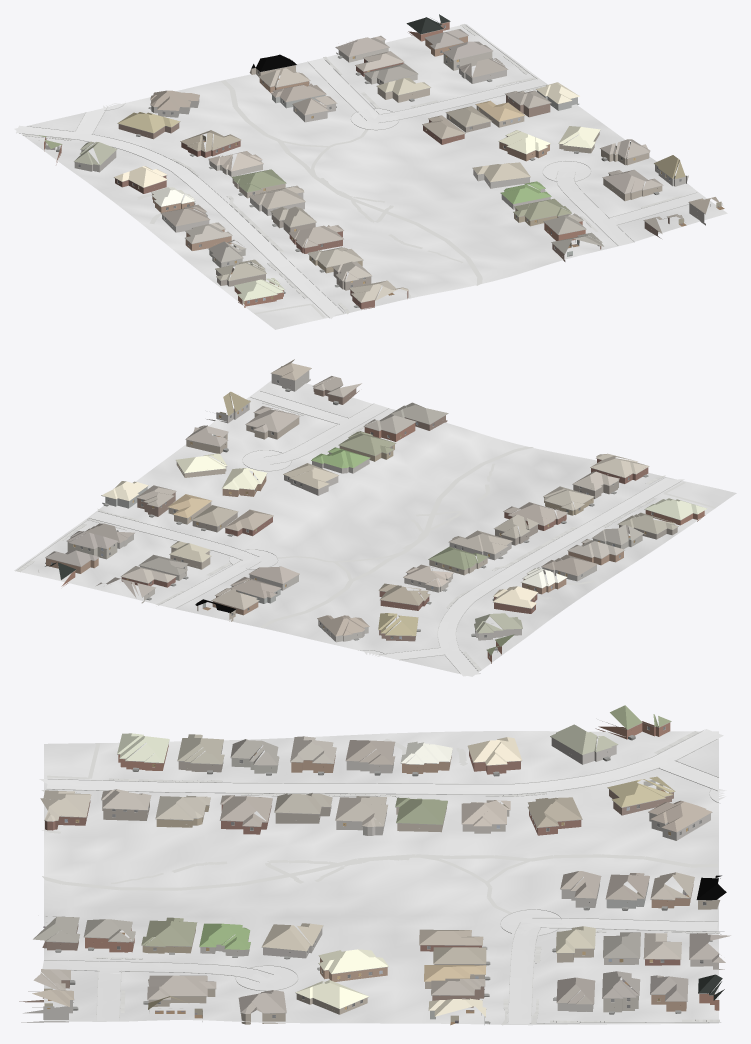
3 views of the same model, one above another, from view 1: azimuth 30°, elevation 25°; view 2: azimuth 150°, elevation 25°; view 3: azimuth 270°, elevation 25° (orthographic). The views are drawn at different scales.
Parts seen in each view (by area): view 1: ground, roof, concrete, wall, walk, detail, wall_stone, wall_stucco, curb; view 2: ground, roof, concrete, wall, walk, detail, wall_stone, wall_stucco, curb; view 3: ground, roof, concrete, wall, walk, wall_stone, detail, curb, wall_stucco, room.
Part boxes in pixels (left/top/right/bottom): ground: left=14, top=24, right=727, bottom=329; roof: left=38, top=14, right=720, bottom=302; concrete: left=16, top=59, right=705, bottom=318; wall: left=44, top=22, right=669, bottom=309; walk: left=23, top=24, right=682, bottom=317; detail: left=38, top=21, right=722, bottom=307; wall_stone: left=74, top=68, right=705, bottom=232; wall_stucco: left=209, top=40, right=579, bottom=267; curb: left=19, top=24, right=697, bottom=317; ground: left=14, top=380, right=736, bottom=676; roof: left=45, top=359, right=707, bottom=655; concrete: left=89, top=391, right=683, bottom=676; wall: left=46, top=387, right=705, bottom=663; walk: left=16, top=402, right=715, bottom=670; detail: left=38, top=368, right=697, bottom=657; wall_stone: left=117, top=371, right=596, bottom=642; wall_stucco: left=67, top=487, right=642, bottom=603; curb: left=15, top=391, right=682, bottom=673; ground: left=44, top=731, right=718, bottom=1025; roof: left=32, top=705, right=730, bottom=1016; concrete: left=39, top=729, right=726, bottom=1024; wall: left=19, top=721, right=720, bottom=1024; walk: left=41, top=731, right=720, bottom=1025; wall_stone: left=21, top=738, right=710, bottom=1022; detail: left=28, top=721, right=718, bottom=1023; curb: left=44, top=730, right=724, bottom=1023; wall_stucco: left=231, top=748, right=724, bottom=1024; room: left=43, top=752, right=688, bottom=1025.
Size of the model in its own units: 261 by 16.67 by 268.
